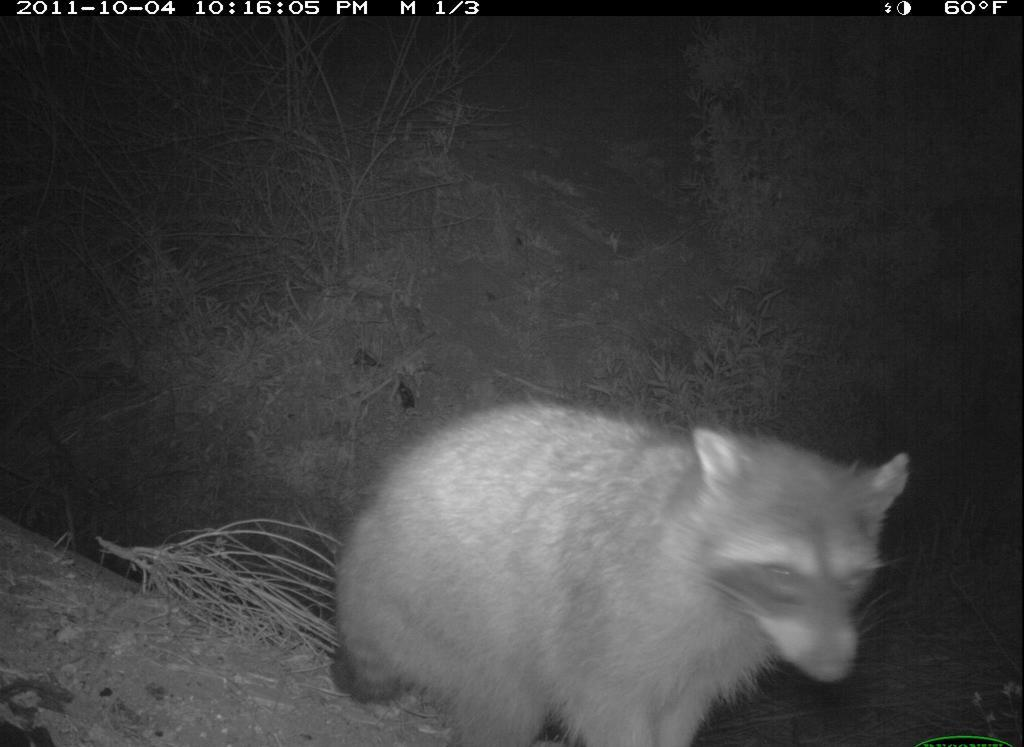raccoon: (336, 402, 913, 745)
